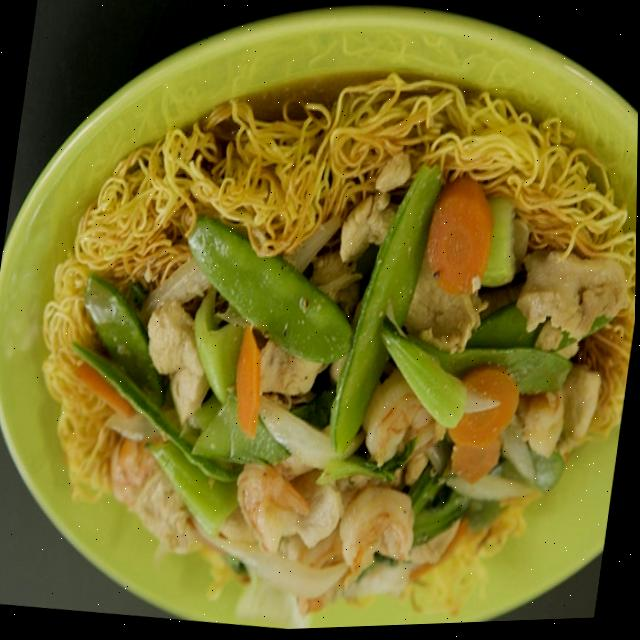面条主食: (16, 33, 639, 639)
